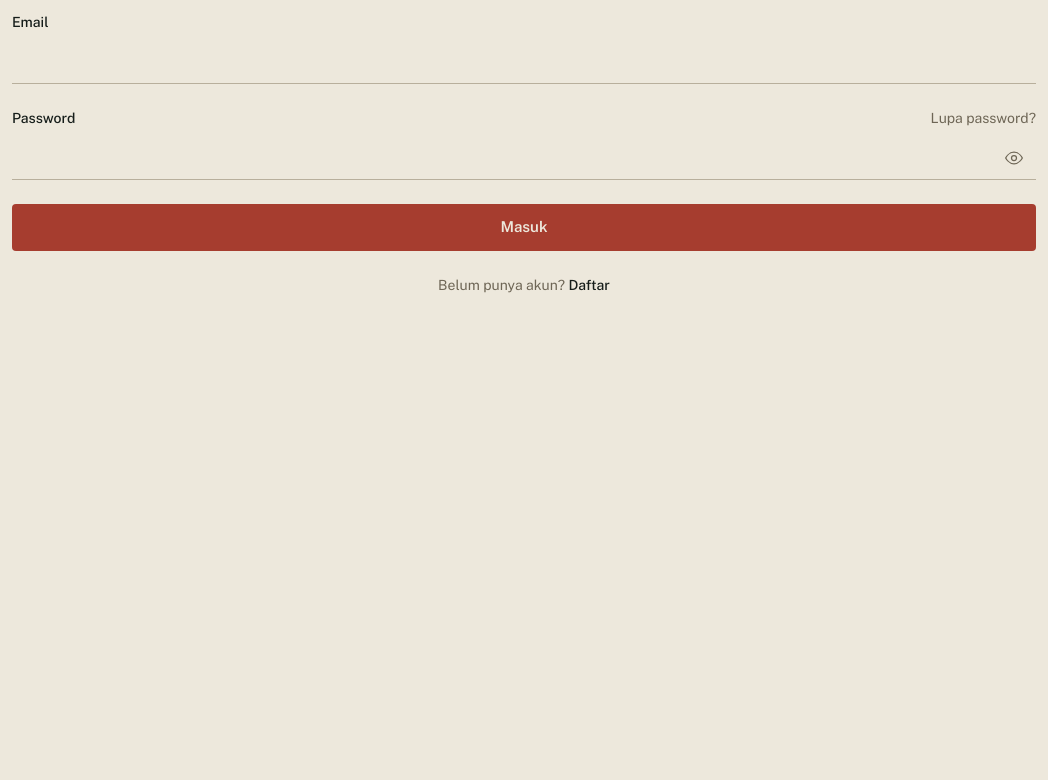
Test case: LoginForm › redirects to home on success and shows toast
Type "a@b.com" into the field labelled "Email". click: (524, 62)
box: 12,40 -> 1036,84
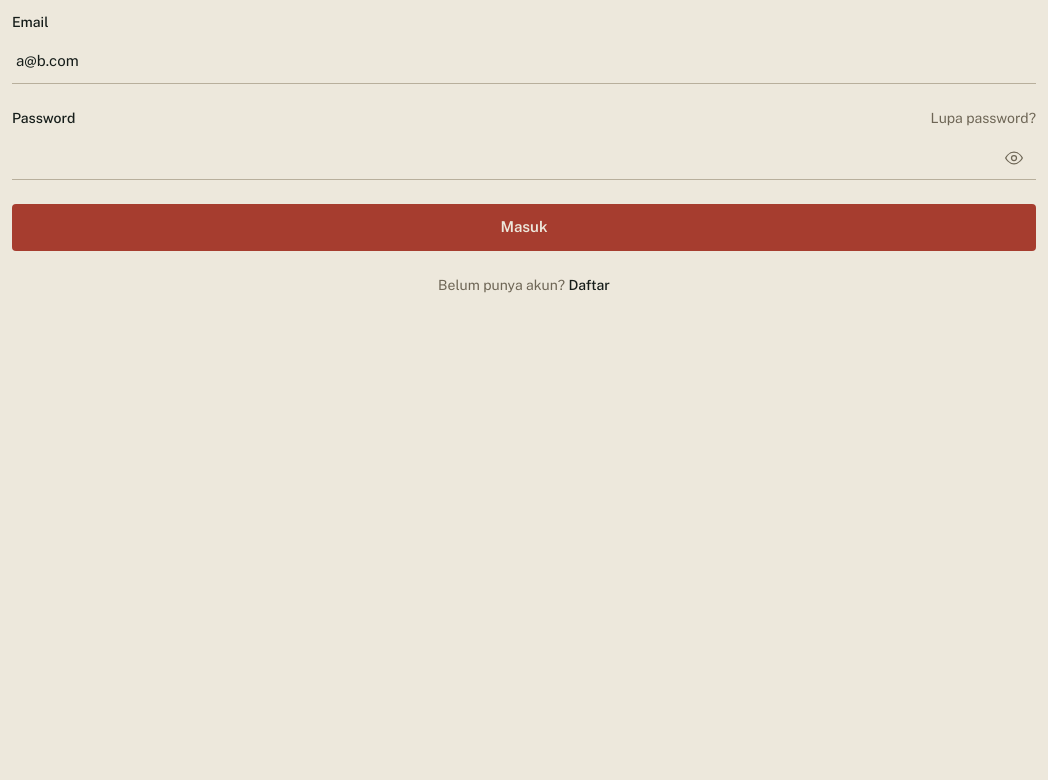
Type "Test1234" into the password field labelled "Password". click: (524, 158)
box: 12,136 -> 1036,180
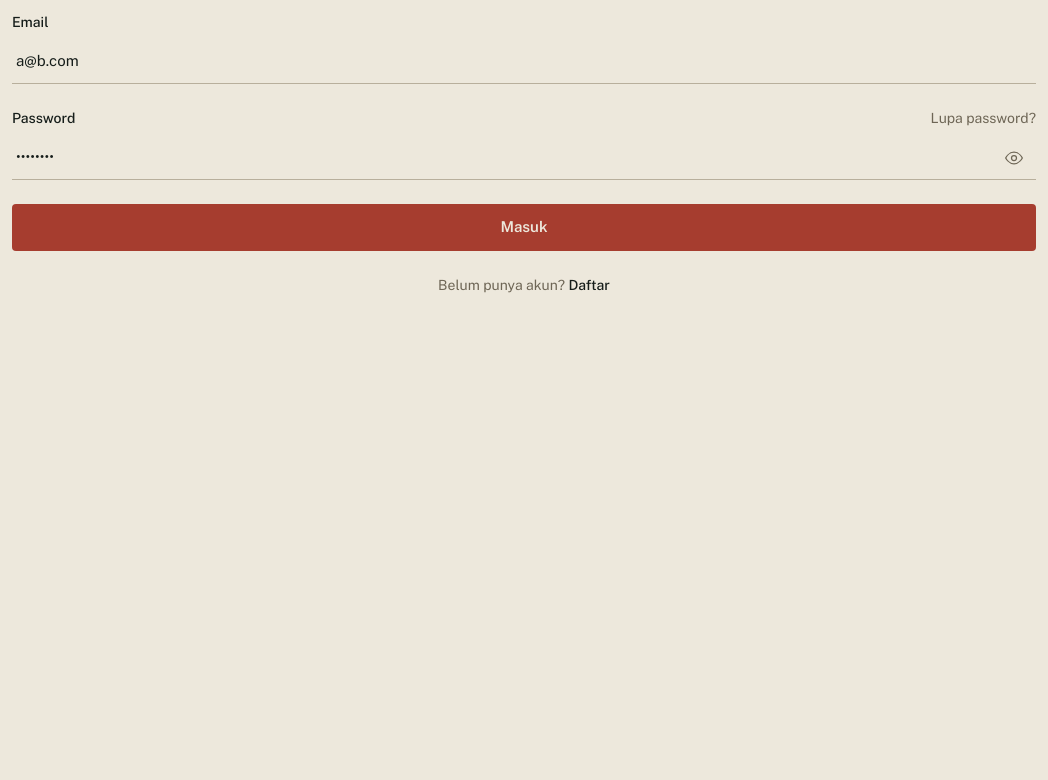
Click the button "Masuk". click: (524, 227)
box: 12,204 -> 1036,250
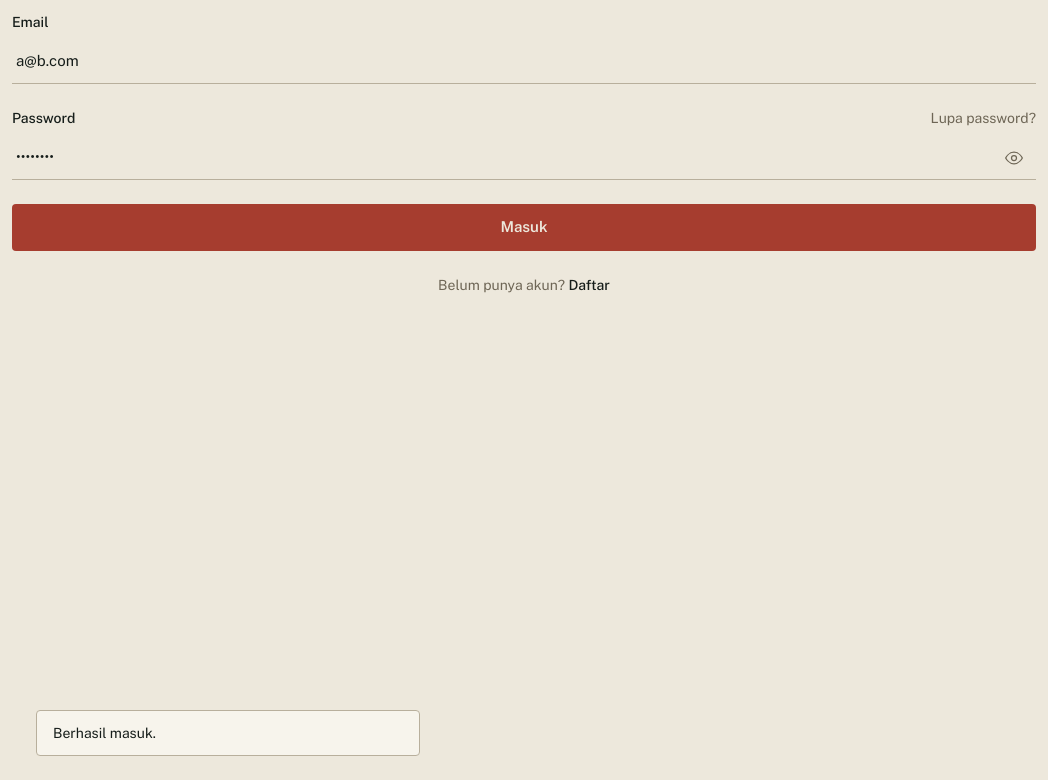
Expected: the text "Berhasil masuk." is shown, 36,710 -> 420,756
